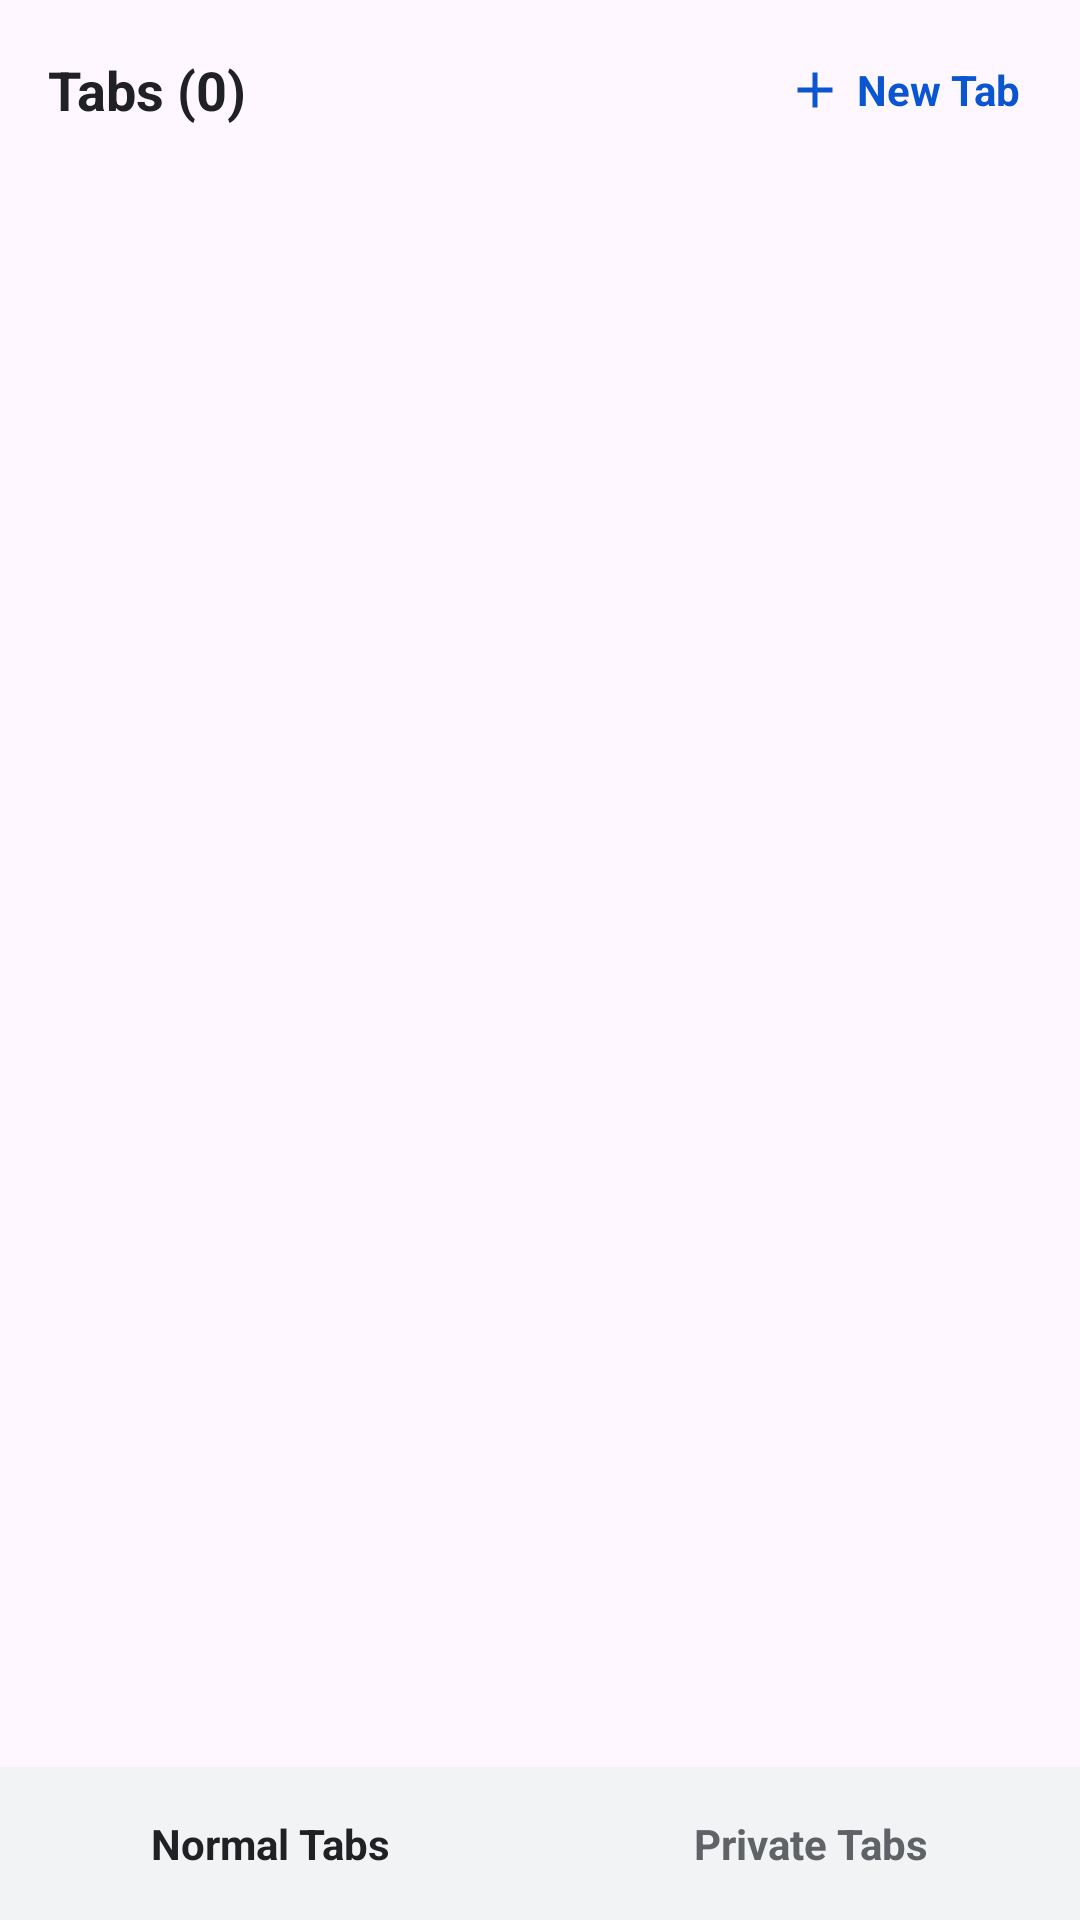

Where icons sit on this 1080 x 1920 app screen, as (x1, y1, x2, y2):
Add: (797, 72, 833, 108)
